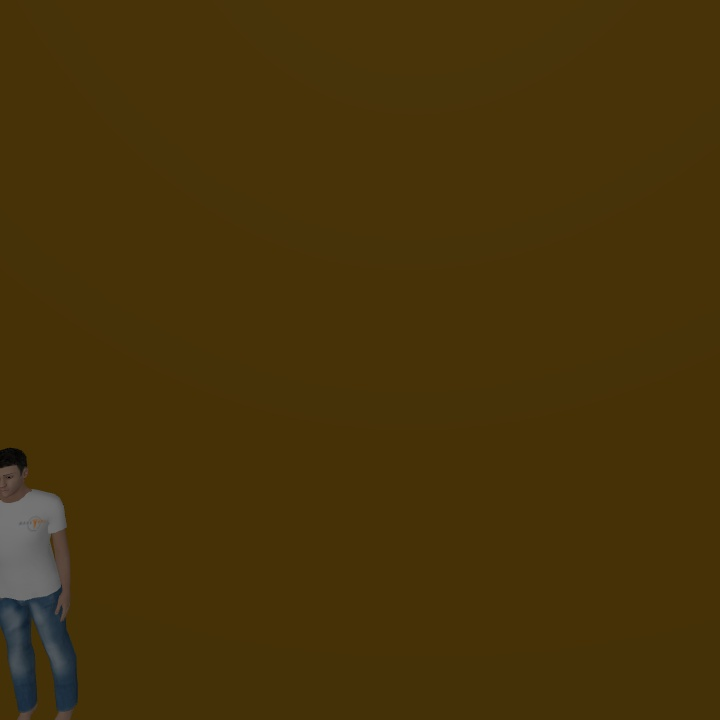victim: (1, 444, 81, 711)
